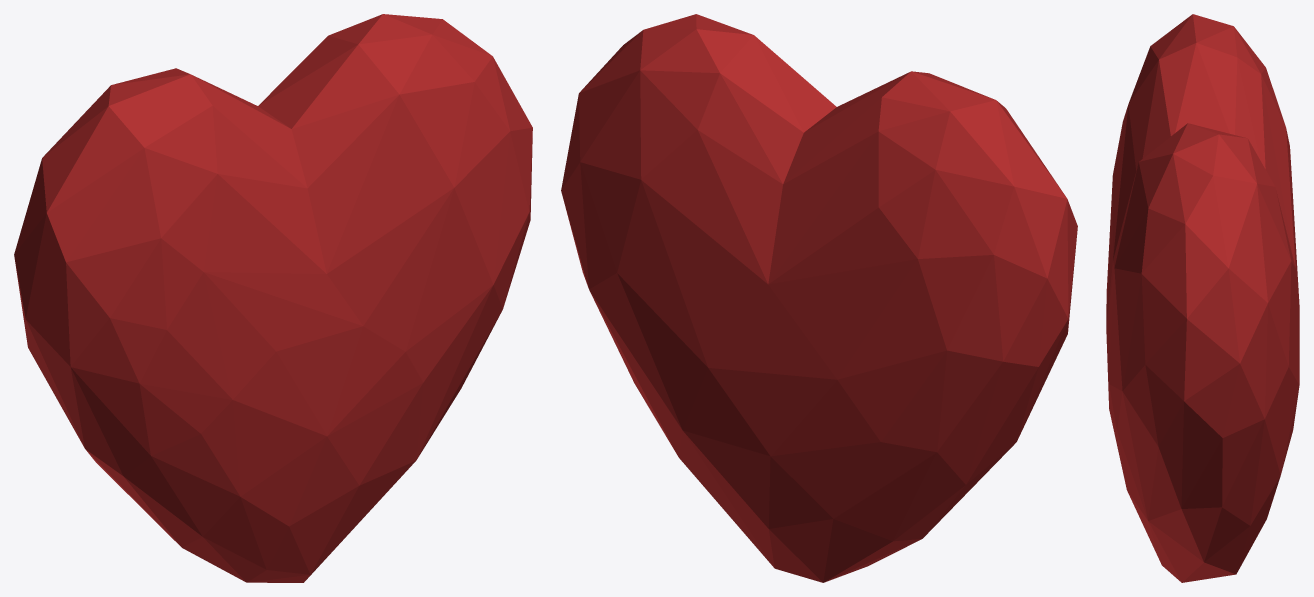
The model's file is asd.fbx.
3 views of the same model, side by side, from view 1: azimuth 30°, elevation 25°; view 2: azimuth 150°, elevation 25°; view 3: azimuth 270°, elevation 25° (orthographic). The views are drawn at different scales.
Parts seen in each view (by area): view 1: Love; view 2: Love; view 3: Love.
Boxes of the visible parts, box(x1,y1,x2,y2) form: Love: box(14, 14, 532, 582); Love: box(561, 14, 1077, 582); Love: box(1106, 14, 1299, 582).
Size of the model in its own units: 1197 by 1216 by 431.
